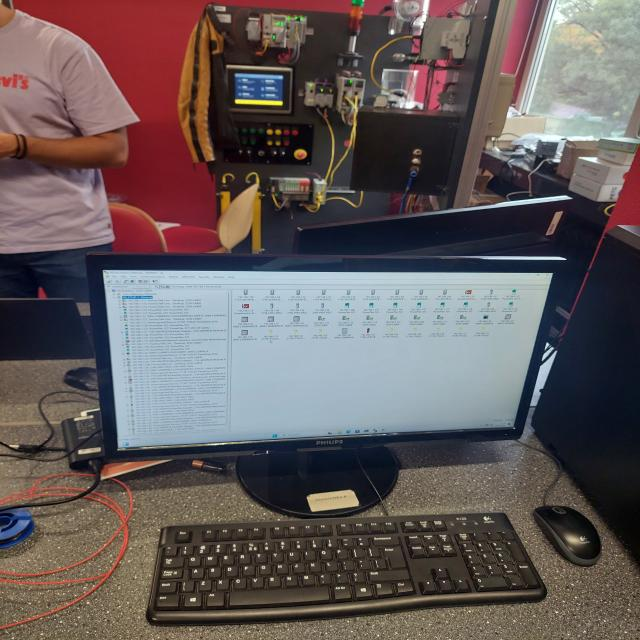mysz: (524, 499, 612, 572)
